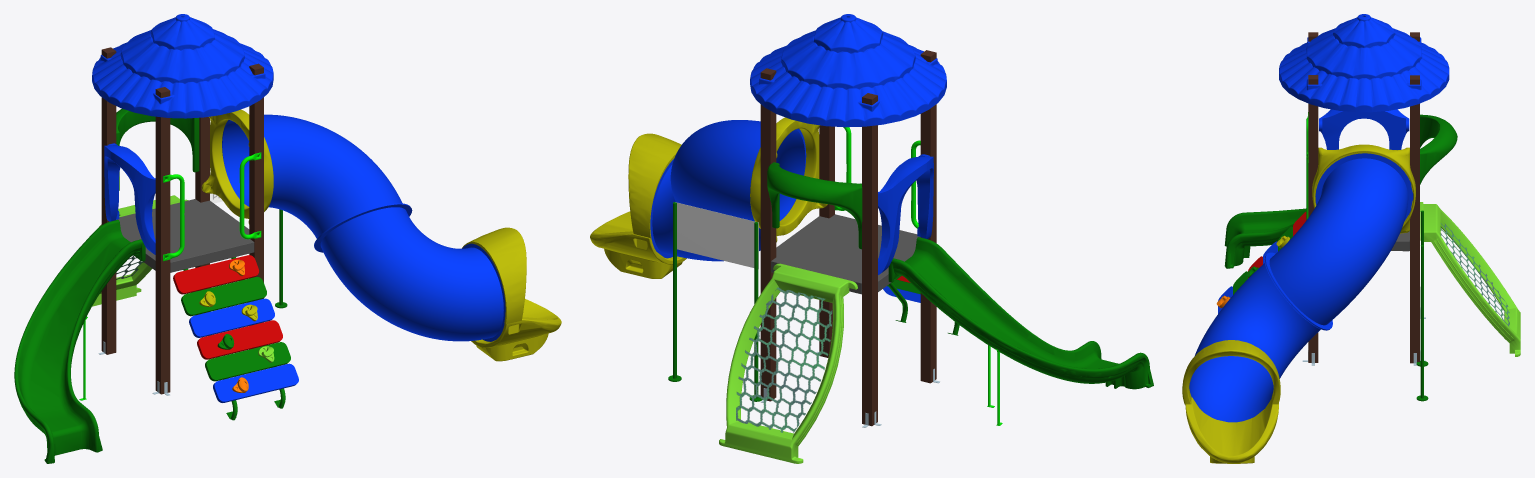
3 renders of one model, left to right at view 1: azimuth 30°, elevation 25°; view 2: azimuth 150°, elevation 25°; view 3: azimuth 270°, elevation 25°, orthographic. The views are drawn at different scales.
Visible parts, largest first — view 1: DUTO TOBOGA M3 LADO A, TOLDO M2, ESCORREGADOR M4, DUTO TOBOGA M3 LADO B, RAMPA DE AGARRA.003, PRANCHA, PLATAFORMA M1, COLUNA MAD PLAST 9 X 9CM, PORTAL M4, SUP PONTEIRA M2, BORDA M3, PONTEIRA M2 (+8 smaller); view 2: TOLDO M2, TEIA DE ARANHA M1, ESCORREGADOR M4, DUTO TOBOGA M3 LADO B, PLATAFORMA M1, COLUNA MAD PLAST 9 X 9CM.003, COLUNA MAD PLAST 9 X 9CM.001, PLACA INFORMATIVA ADESIVADA, PORTAL M4, SUP PONTEIRA M2, PORTAL M3, PONTEIRA M2 (+7 smaller); view 3: DUTO TOBOGA M3 LADO B, TOLDO M2, DUTO TOBOGA M3 LADO A, TEIA DE ARANHA M1, PONTEIRA M2, ESCORREGADOR M4, COLUNA MAD PLAST 9 X 9CM.001, PORTAL M4, SUP PONTEIRA M2, BORDA M3, PORTAL M3, COLUNA MAD PLAST 9 X 9CM.004 (+2 smaller).
Boxes of the visible parts, x1,y1,x2,y2 form: DUTO TOBOGA M3 LADO A: [315, 204, 505, 341]; TOLDO M2: [92, 14, 273, 118]; ESCORREGADOR M4: [14, 219, 145, 463]; DUTO TOBOGA M3 LADO B: [222, 114, 410, 251]; RAMPA DE AGARRA.003: [181, 257, 298, 420]; PRANCHA: [173, 255, 290, 381]; PLATAFORMA M1: [116, 199, 254, 272]; COLUNA MAD PLAST 9 X 9CM: [155, 87, 170, 394]; PORTAL M4: [104, 143, 155, 254]; SUP PONTEIRA M2: [462, 227, 526, 324]; BORDA M3: [201, 109, 273, 224]; PONTEIRA M2: [471, 299, 561, 361]; TOLDO M2: [750, 14, 946, 127]; TEIA DE ARANHA M1: [719, 263, 857, 463]; ESCORREGADOR M4: [888, 237, 1153, 389]; DUTO TOBOGA M3 LADO B: [670, 120, 806, 229]; PLATAFORMA M1: [771, 214, 920, 294]; COLUNA MAD PLAST 9 X 9CM.003: [862, 93, 877, 426]; COLUNA MAD PLAST 9 X 9CM.001: [760, 68, 776, 401]; PLACA INFORMATIVA ADESIVADA: [675, 202, 758, 269]; PORTAL M4: [878, 154, 933, 274]; SUP PONTEIRA M2: [628, 133, 681, 238]; PORTAL M3: [767, 162, 862, 249]; PONTEIRA M2: [590, 211, 686, 278]; DUTO TOBOGA M3 LADO B: [1264, 153, 1413, 330]; TOLDO M2: [1279, 14, 1449, 112]; DUTO TOBOGA M3 LADO A: [1189, 254, 1326, 422]; TEIA DE ARANHA M1: [1420, 202, 1520, 356]; PONTEIRA M2: [1185, 397, 1278, 463]; ESCORREGADOR M4: [1224, 208, 1306, 268]; COLUNA MAD PLAST 9 X 9CM.001: [1410, 75, 1419, 363]; PORTAL M4: [1319, 109, 1409, 149]; SUP PONTEIRA M2: [1182, 340, 1280, 404]; BORDA M3: [1312, 144, 1415, 233]; PORTAL M3: [1420, 114, 1457, 184]; COLUNA MAD PLAST 9 X 9CM.004: [1308, 75, 1318, 362].
Size of the model in its own units: 4.98 by 3.19 by 3.03.
Materials: 23 (2 with a texture image).
